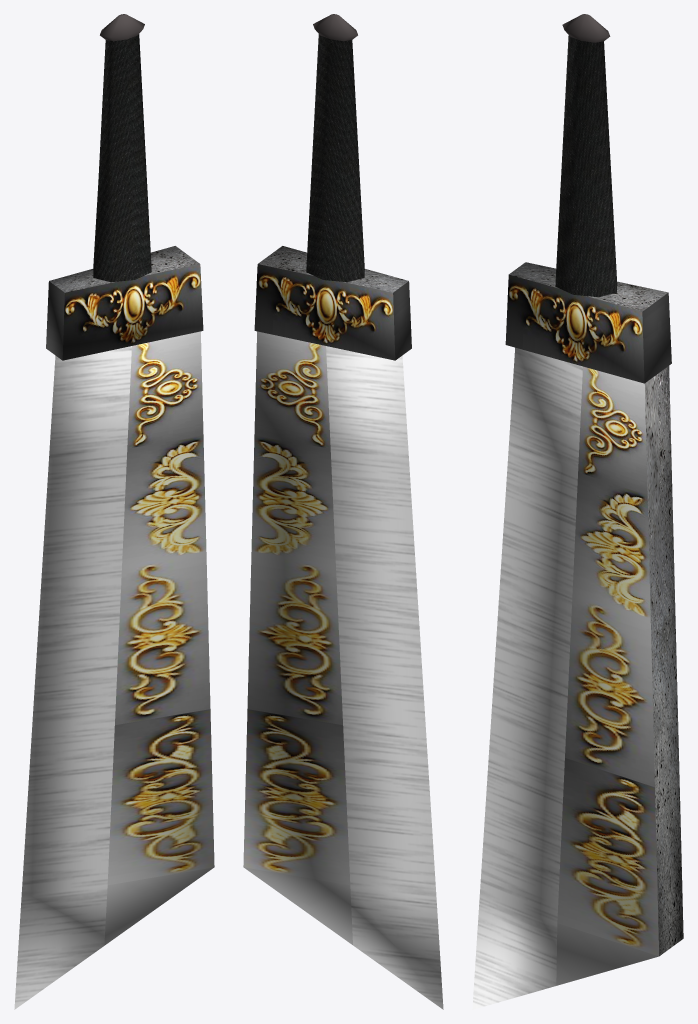
Rendered from BigSword.fbx.
The picture shows the model from 3 angles, left to right: view 1: azimuth 30°, elevation 25°; view 2: azimuth 150°, elevation 25°; view 3: azimuth 330°, elevation 25°; orthographic projection. The views are drawn at different scales.
Visible parts, largest first — view 1: BigSword; view 2: BigSword; view 3: BigSword.
Boxes of the visible parts, bbox=[...] form: BigSword: bbox=[14, 14, 214, 1009]; BigSword: bbox=[243, 14, 443, 1009]; BigSword: bbox=[472, 14, 683, 1009].
Size of the model in its own units: 27.25 by 6.49 by 134.
4 materials, 4 textured.
